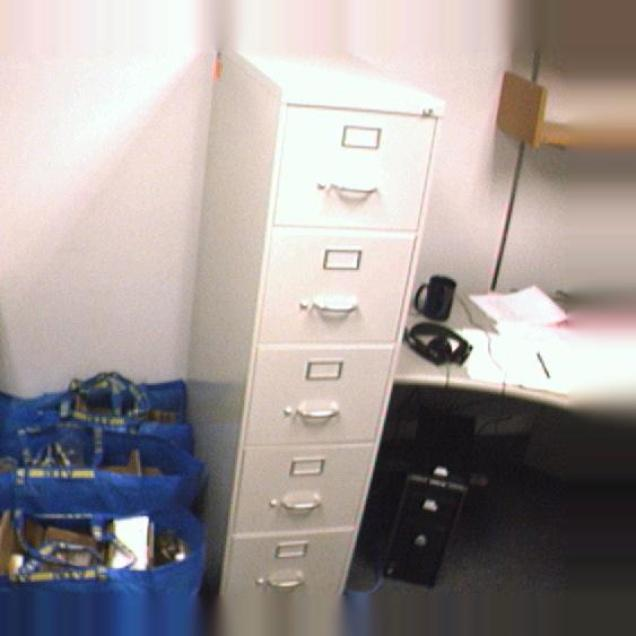Filing Cabinet: (216, 85, 445, 598)
